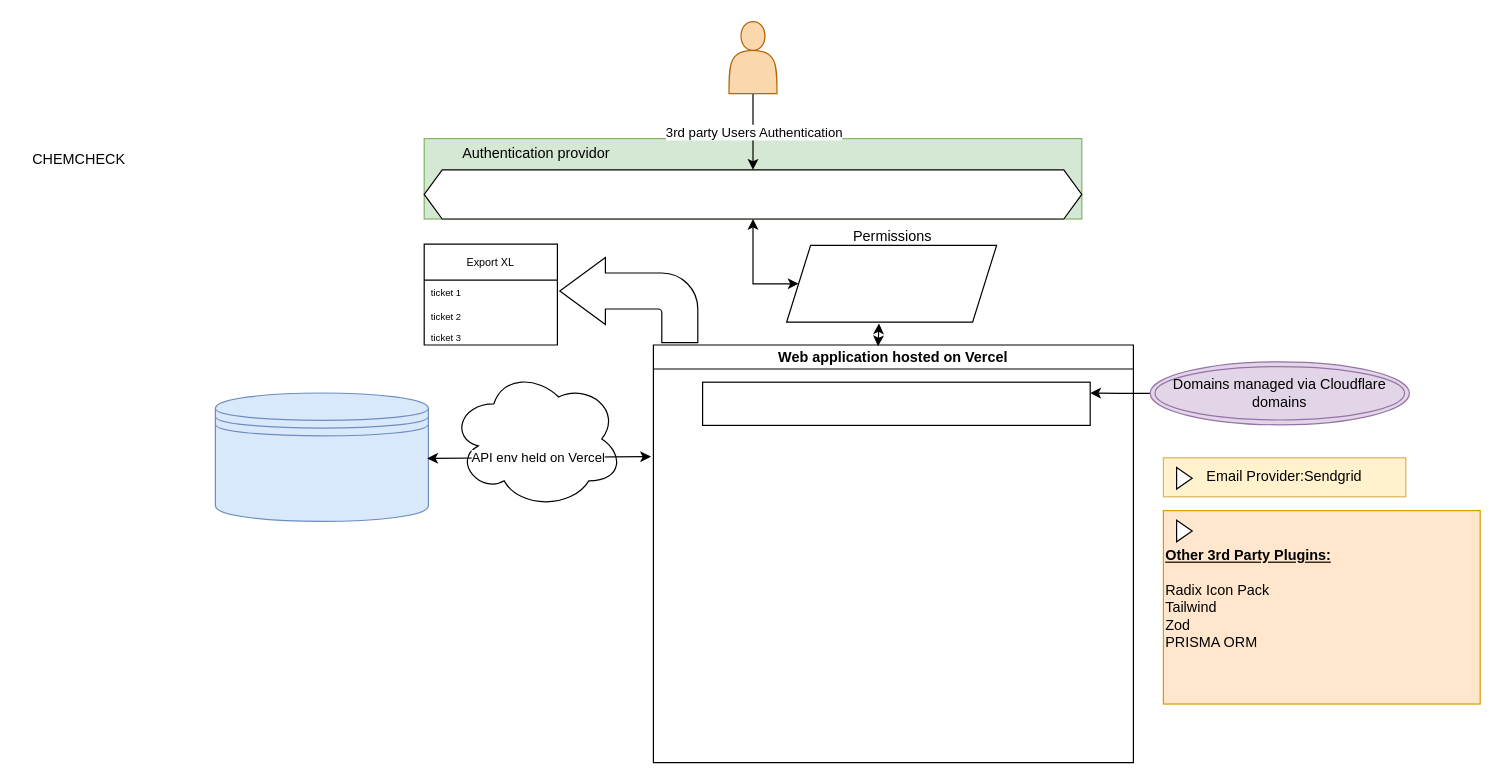
This 1501x784 diagram has some shape labels left out. Here are the shapes that lost their labels. From the top down, the centre of each, then its label:
(895,403): URL: Chemcheck.zamaqo.com
(321,456): Database: Planetscale https://app.planetscale.com/ zamaqo/zamaqodb/ chemcheck
(536,438): PRISMA ORM
